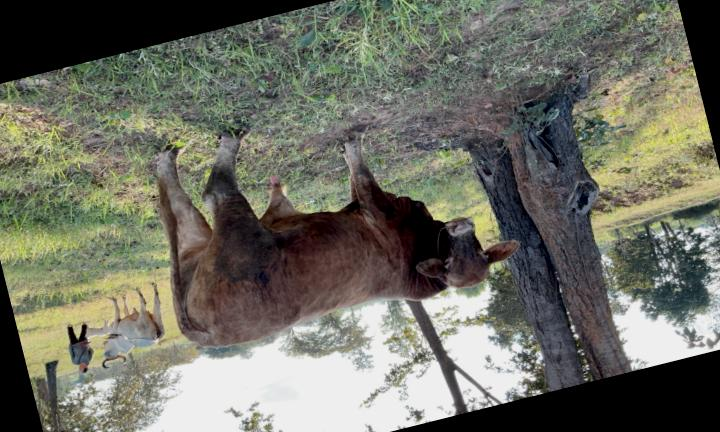Charolais: (155, 125, 518, 347)
